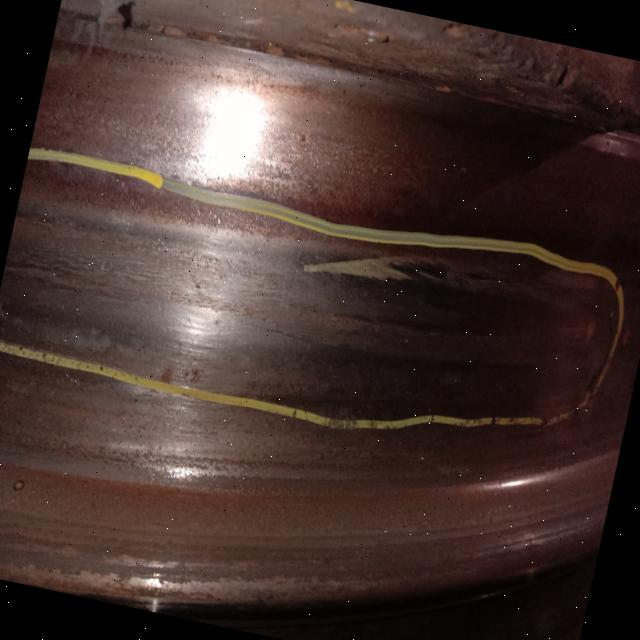flat: (1, 194, 582, 409)
